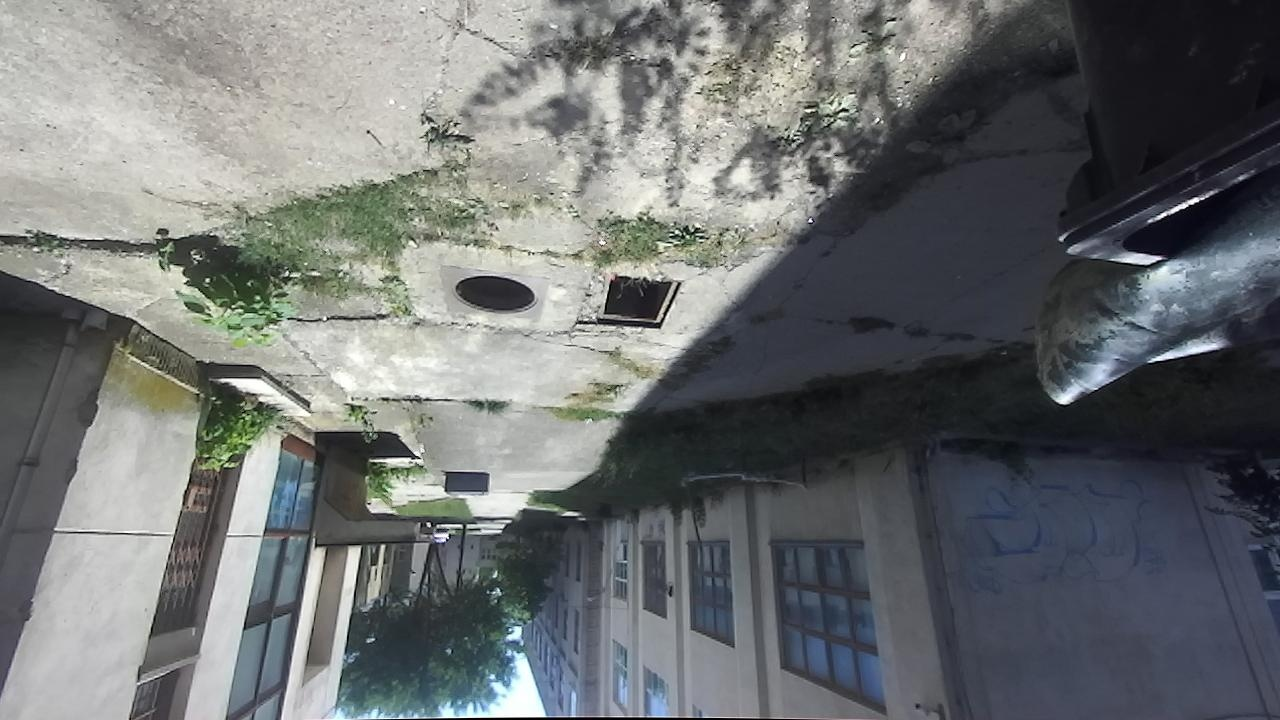drain: (593, 274, 686, 332), (446, 271, 545, 321)
